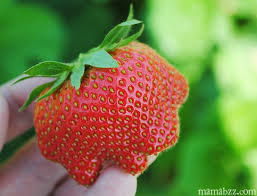ripe: (33, 29, 197, 186)
